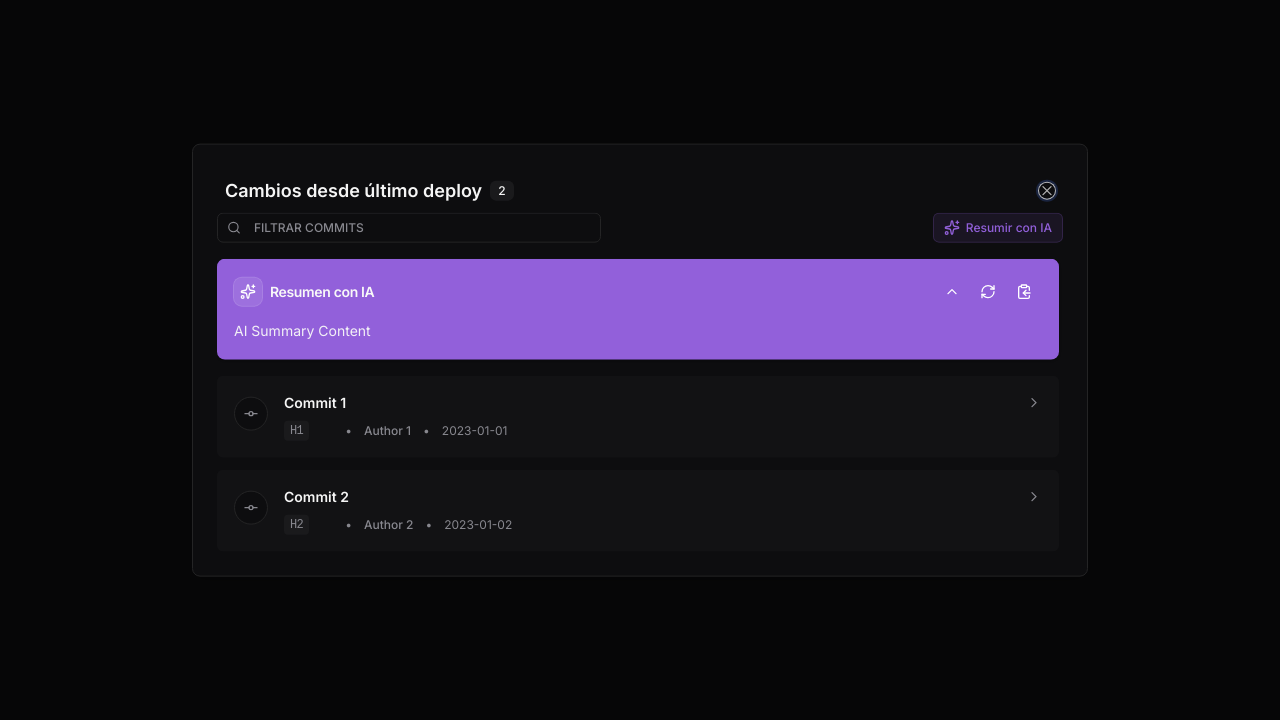
Test: CommitsModal › should filter commits
This screenshot has width=1280, height=720.
Type "Commit 1" into the field with placeholder "FILTRAR COMMITS" at (409, 228), box [217,213,601,243]
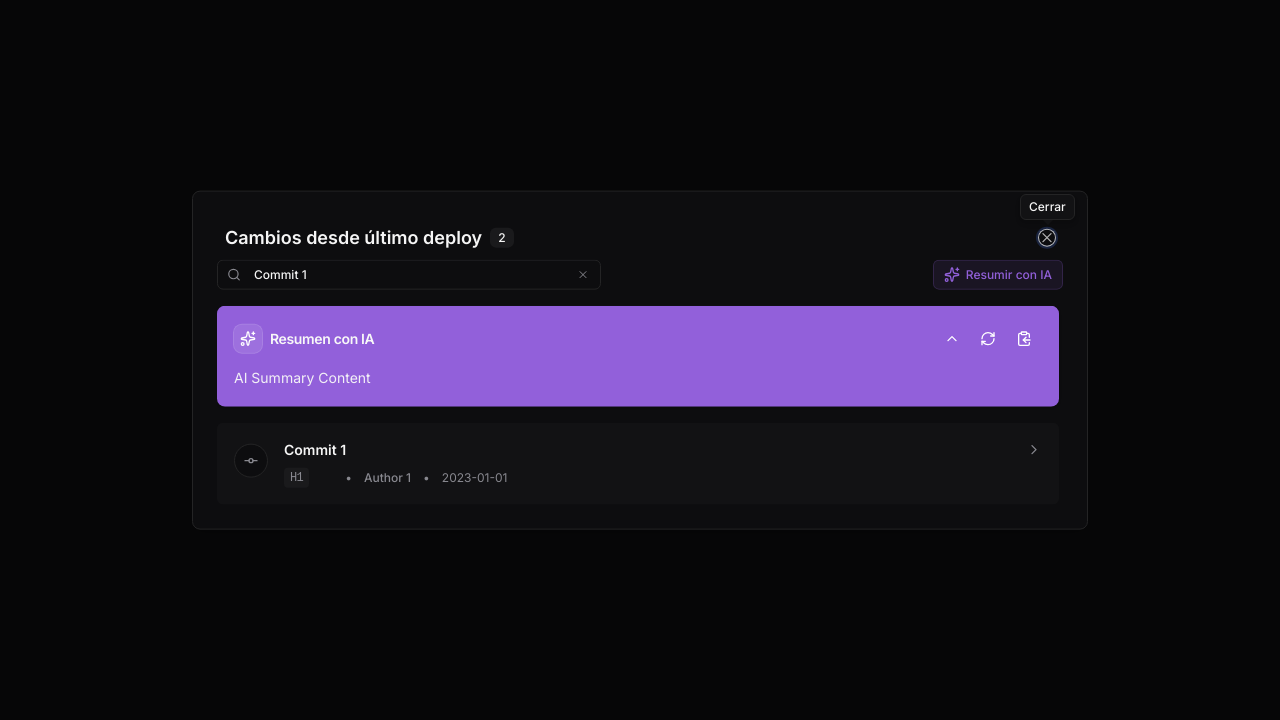
Expected: the text "Commit 1" is shown, [284,439,346,459]
Result: the button "Commit 2" is gone
